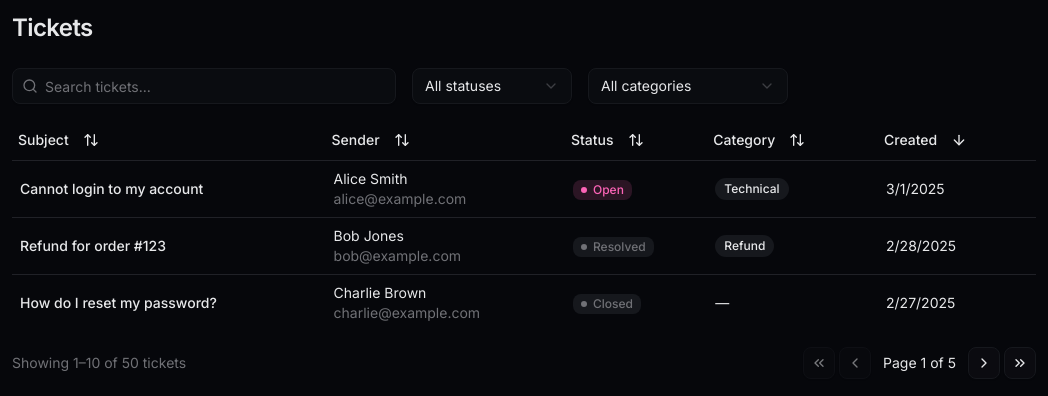
Test case: TicketsPage › Clear filters › AC6 — reset pagination › CASE-b809d54aaa12: the page indicator reads Page 1 after clearing from page 3
Expected: the link "Cannot login to my account" is shown, [20,180,203,196]
Type "login" into the field with placeholder "Search tickets...".
click(204, 86); type("login")  # box [12,68,396,104]
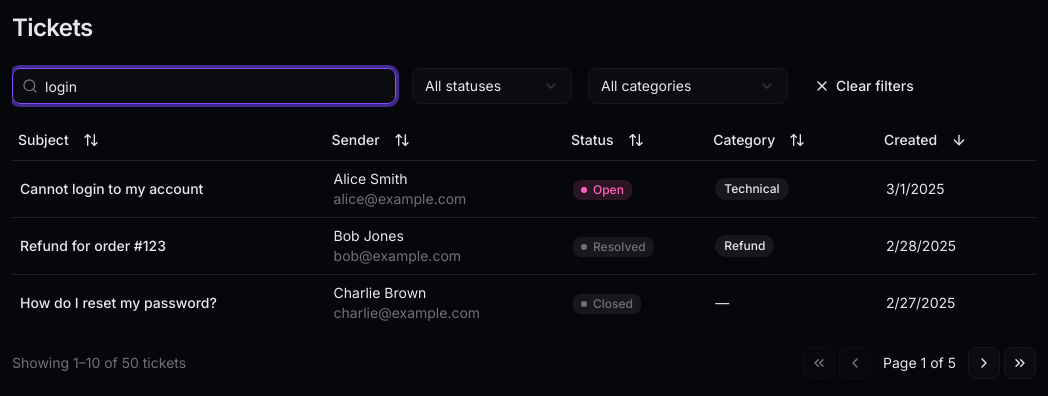
Click the button named "Next page".
click(984, 362)  # box [968,346,1000,378]
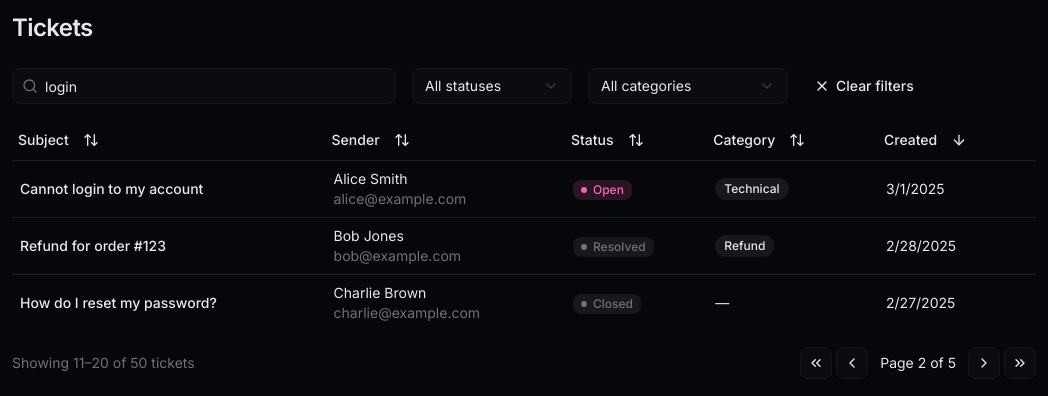
Click the button named "Next page".
click(984, 362)  # box [968,346,1000,378]
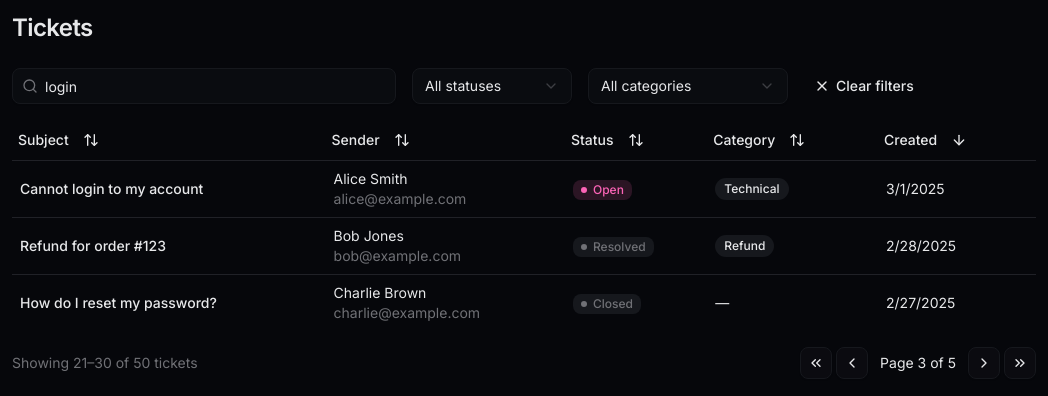
Click the button "Clear filters".
click(864, 86)  # box [804,70,924,102]
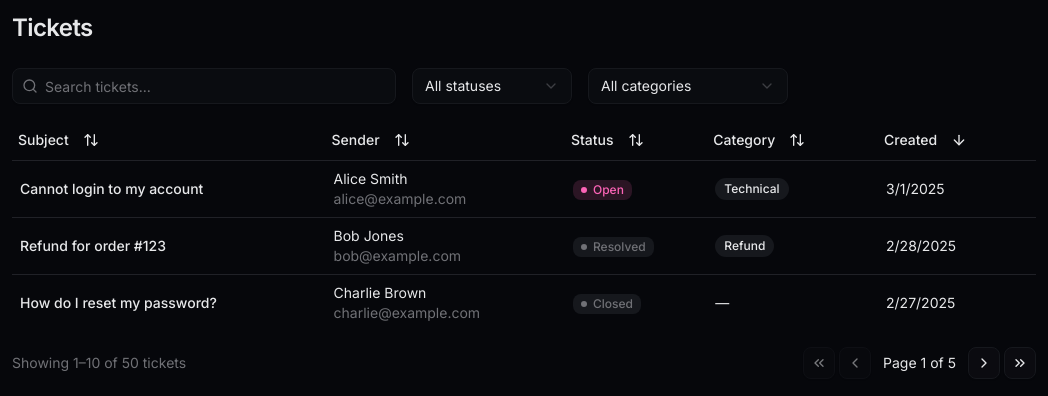
Now the text "Page 1 of 5" is shown, box [883,354,956,370]
Now the text "Showing 1–10 of 50 tickets" is shown, box [12,352,186,372]
